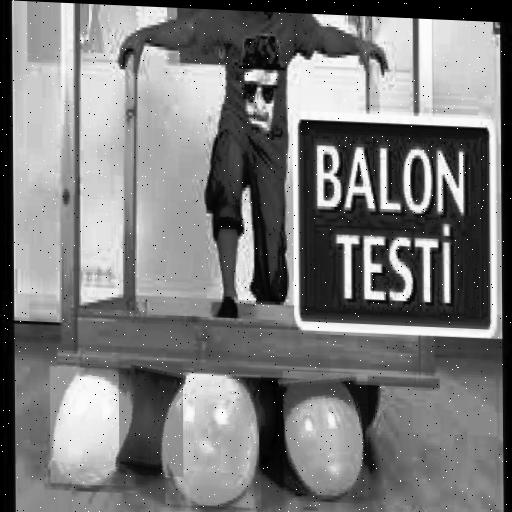balloon: (164, 371, 261, 508), (282, 371, 369, 497), (50, 366, 136, 487), (119, 359, 183, 477)
